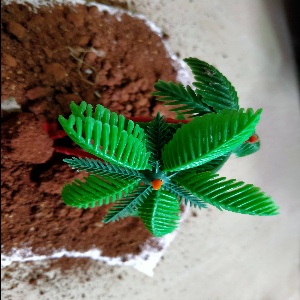plant: (56, 56, 281, 240)
